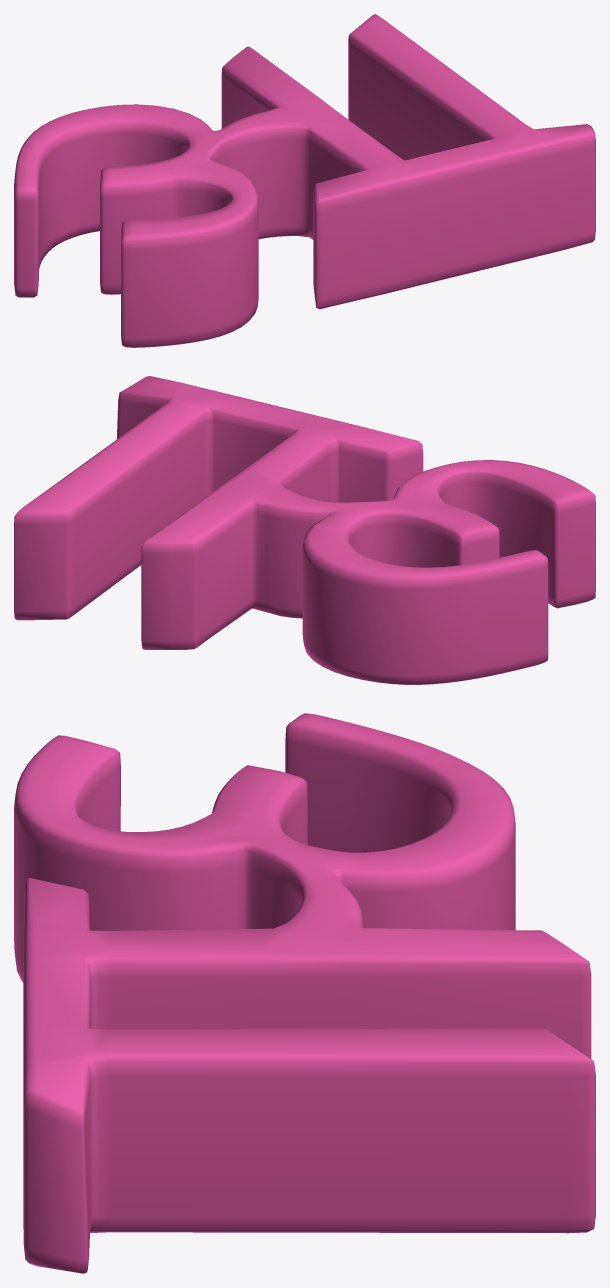
The picture shows the model from 3 angles, top to bottom: view 1: azimuth 30°, elevation 25°; view 2: azimuth 150°, elevation 25°; view 3: azimuth 270°, elevation 25°; orthographic projection. The views are drawn at different scales.
Visible parts, largest first — view 1: 3D_Alphabets_Hindi_Language_02.002; view 2: 3D_Alphabets_Hindi_Language_02.002; view 3: 3D_Alphabets_Hindi_Language_02.002.
Part boxes in pixels (x1,y1,x2,y2): 3D_Alphabets_Hindi_Language_02.002: [14, 14, 595, 347]; 3D_Alphabets_Hindi_Language_02.002: [14, 376, 595, 684]; 3D_Alphabets_Hindi_Language_02.002: [14, 713, 595, 1273].
Size of the model in its own units: 1.01 by 0.2155 by 0.6274.
